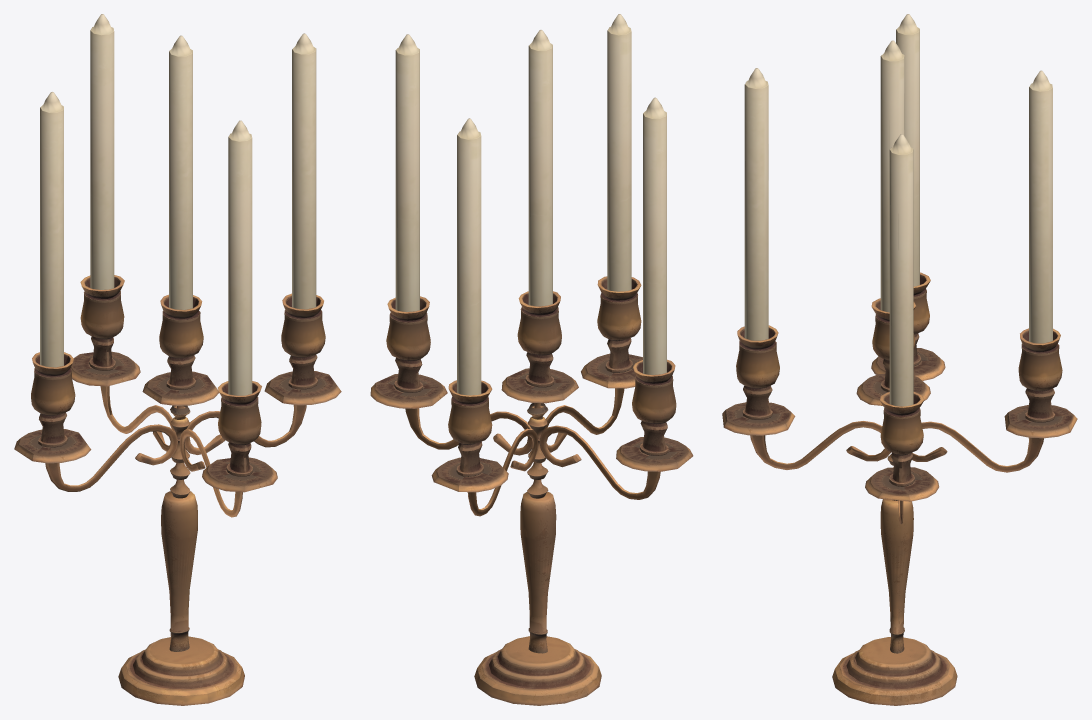
Rendered from SM_Candlestickfourside.fbx.
3 renders of one model, left to right at view 1: azimuth 30°, elevation 25°; view 2: azimuth 150°, elevation 25°; view 3: azimuth 270°, elevation 25°, orthographic.
Visible parts, largest first — view 1: SM_Candlestickfourside_LOD0; view 2: SM_Candlestickfourside_LOD0; view 3: SM_Candlestickfourside_LOD0.
Boxes of the visible parts, box(x1,y1,x2,y2) form: SM_Candlestickfourside_LOD0: box(14, 14, 341, 705); SM_Candlestickfourside_LOD0: box(370, 14, 693, 705); SM_Candlestickfourside_LOD0: box(722, 14, 1077, 705).
Bounding box in the file's own units: 47.91 × 47.91 × 94.74.
Materials: 1 (1 with a texture image).
